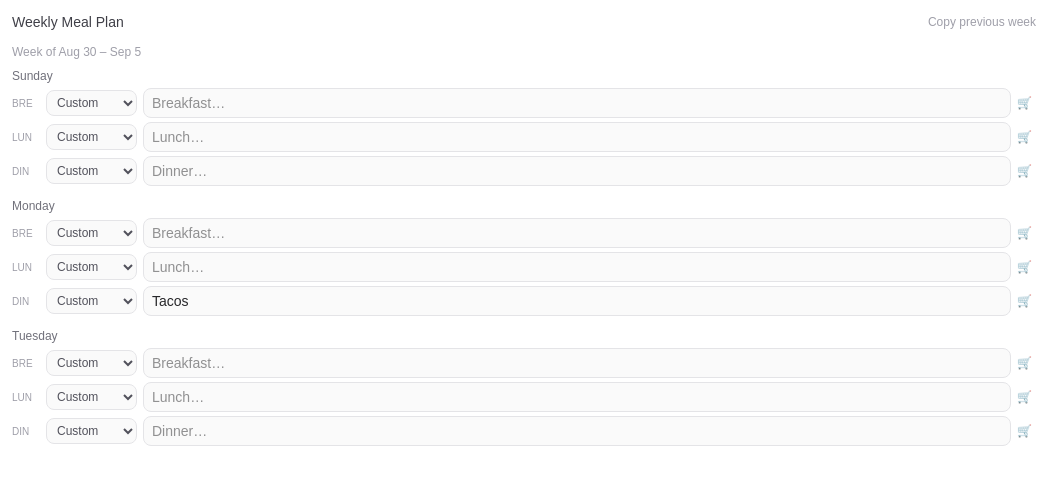
Test: MealPlanSection › closes the ingredient panel immediately, before the Server Action resolves
Click the 6th button "🛒" at (1024, 301), box [1017,293,1032,309]
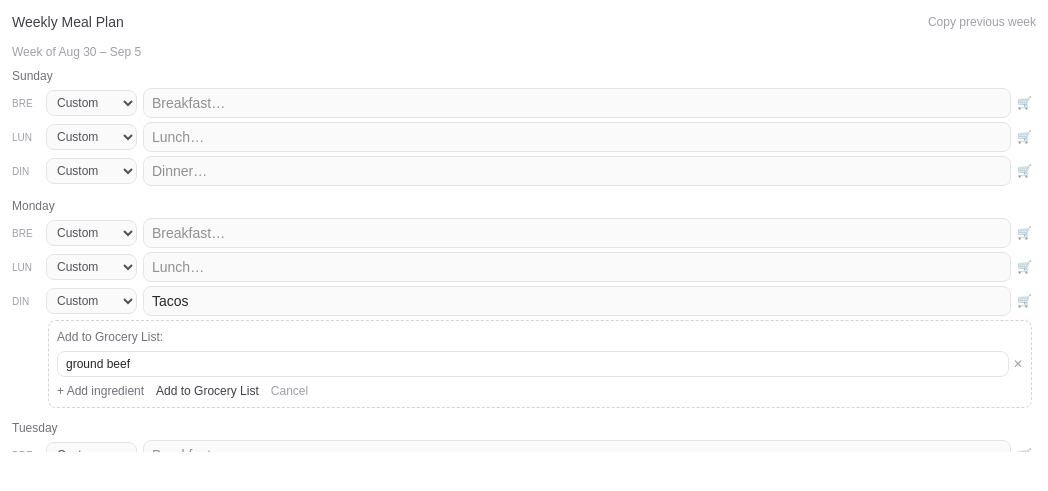
Check: the field showing "ground beef" below "Add to Grocery List:" is shown, box [57,351,1009,377]
Click the button "Add to Grocery List" at (207, 391), box [156,383,259,399]
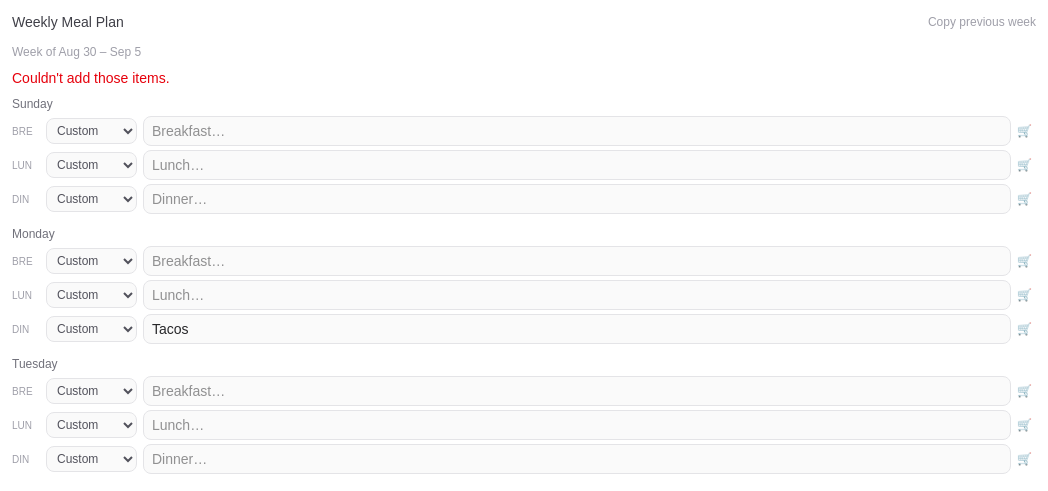
Check: the field showing "ground beef" is not shown
Check: the message reads "Couldn't add those items.", box [12,70,170,86]
